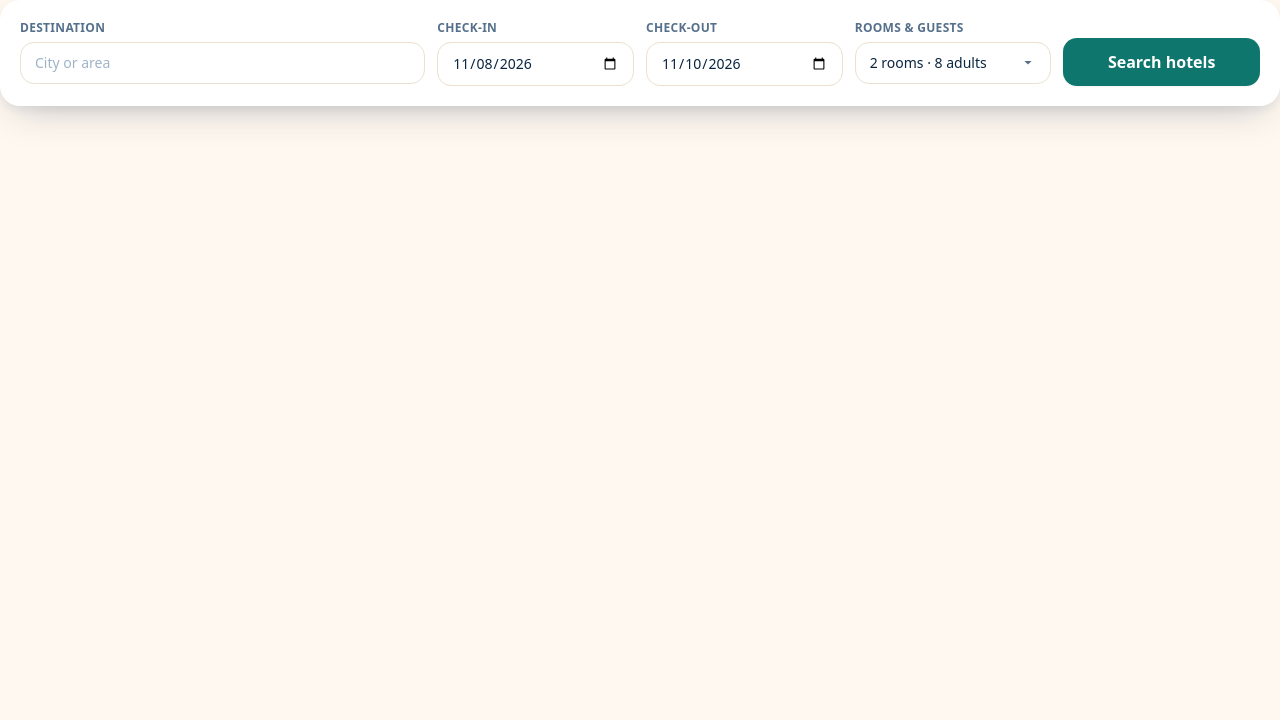
OccupancyPicker › reduces occupancy when the room count shrinks below it
This screenshot has width=1280, height=720.
What coordinates should you click on to do the following:
click the button with test id "occupancy-trigger"
I would click on:
 (953, 63)
Its box is [855,42,1051,84].
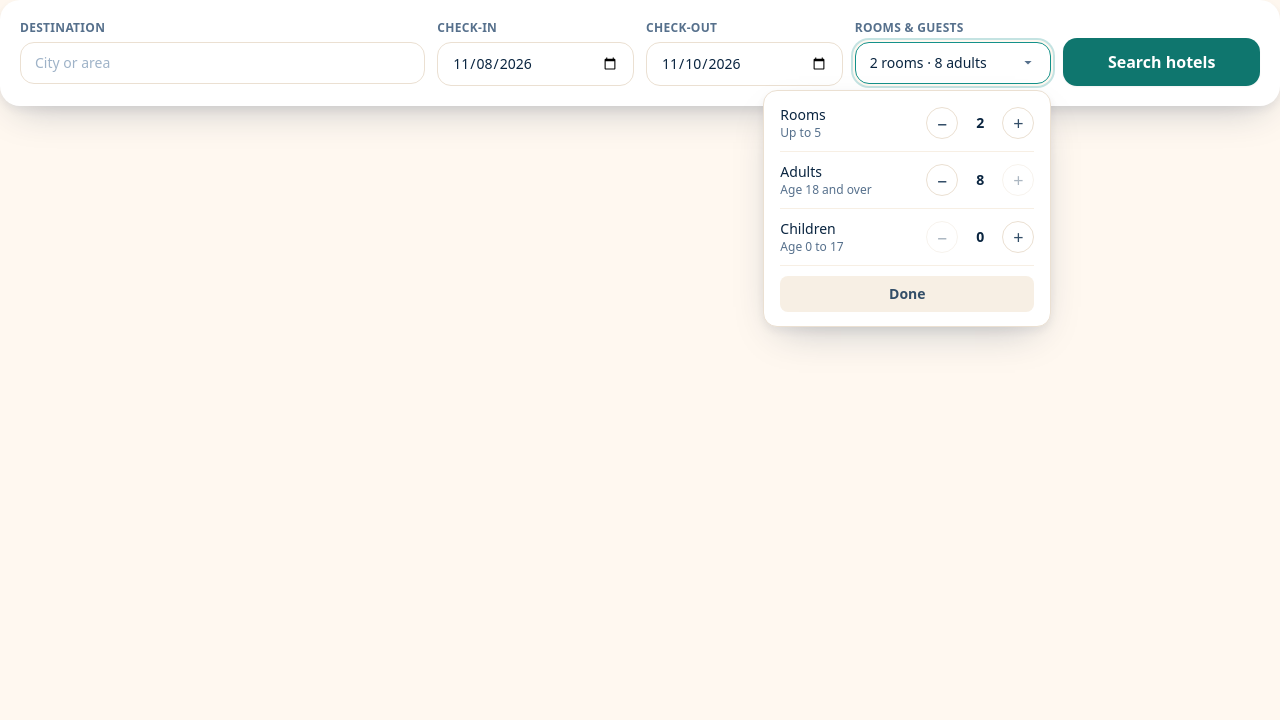
What coordinates should you click on to do the following:
click the button named "Decrease Rooms"
I would click on:
 (942, 123)
Its box is [926,107,958,139].
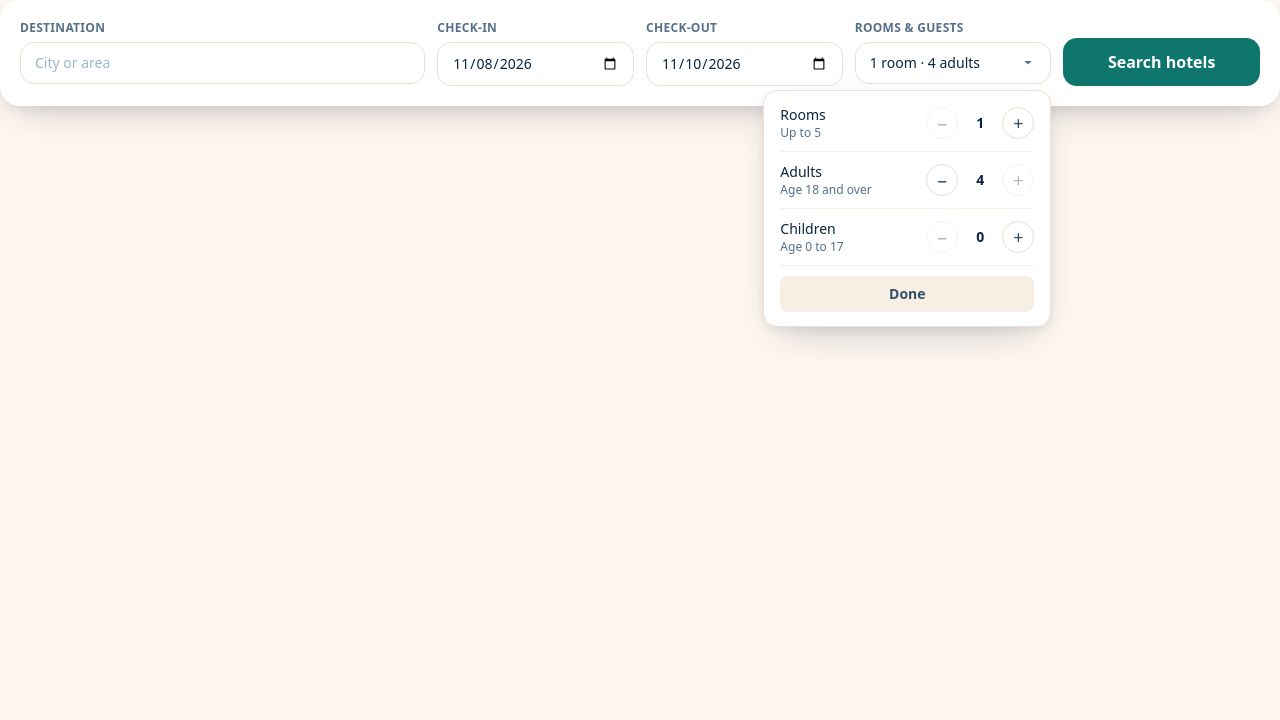
Expected: the text with test id "occupancy-rooms" reads "1", [976,113,984,132]
Expected: the text with test id "occupancy-adults" reads "4", [976,170,984,189]
